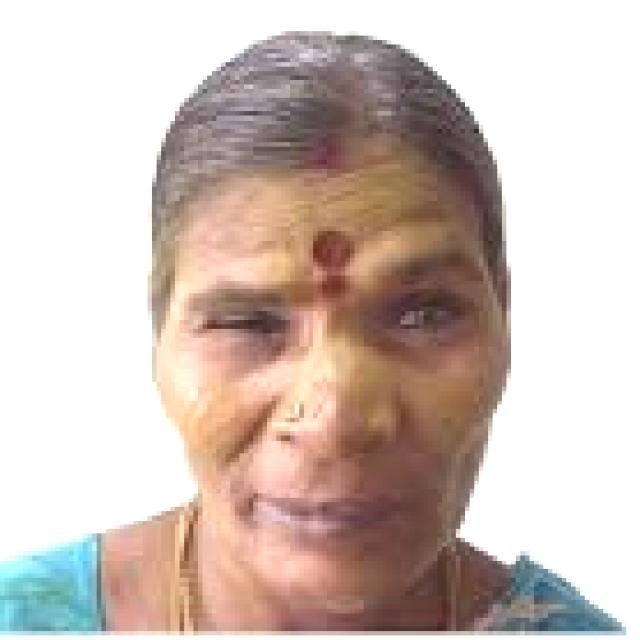stroke_face: (168, 33, 504, 617)
